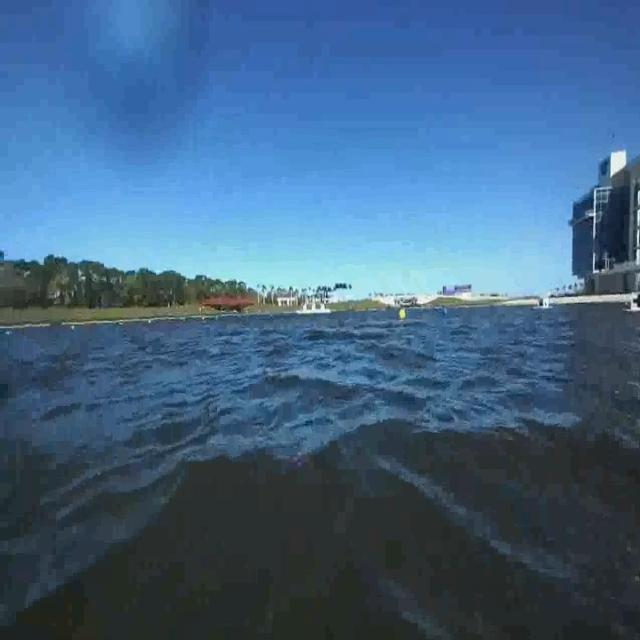yellow-buoy: (397, 308, 406, 322)
